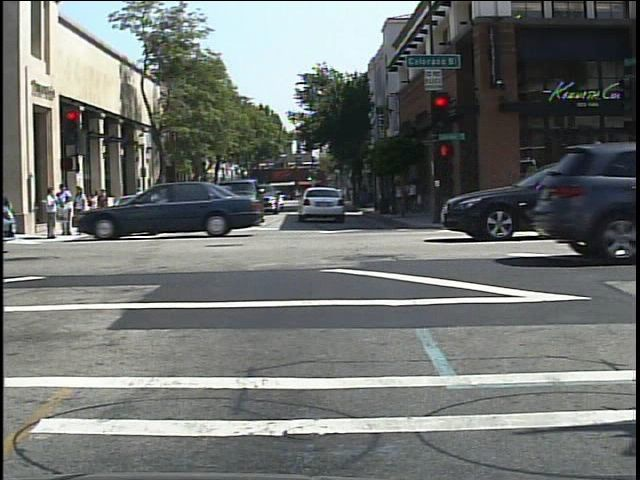person: (169, 183, 186, 217), (131, 183, 147, 214), (92, 188, 100, 229)
